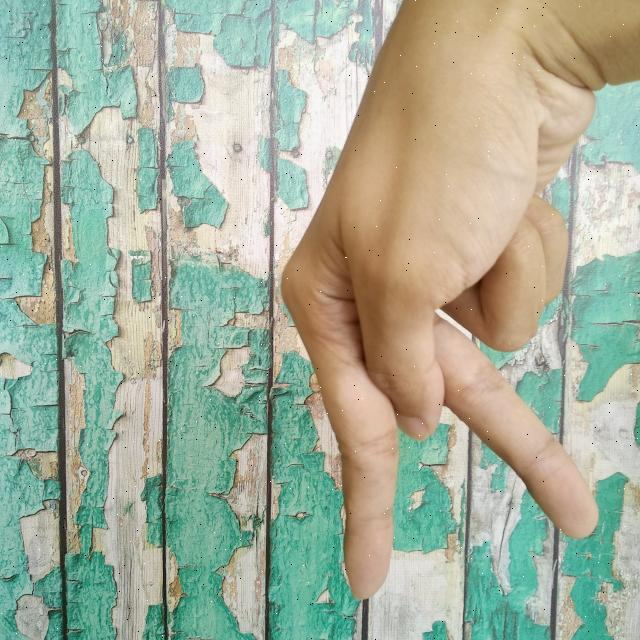P: (269, 0, 640, 608)
